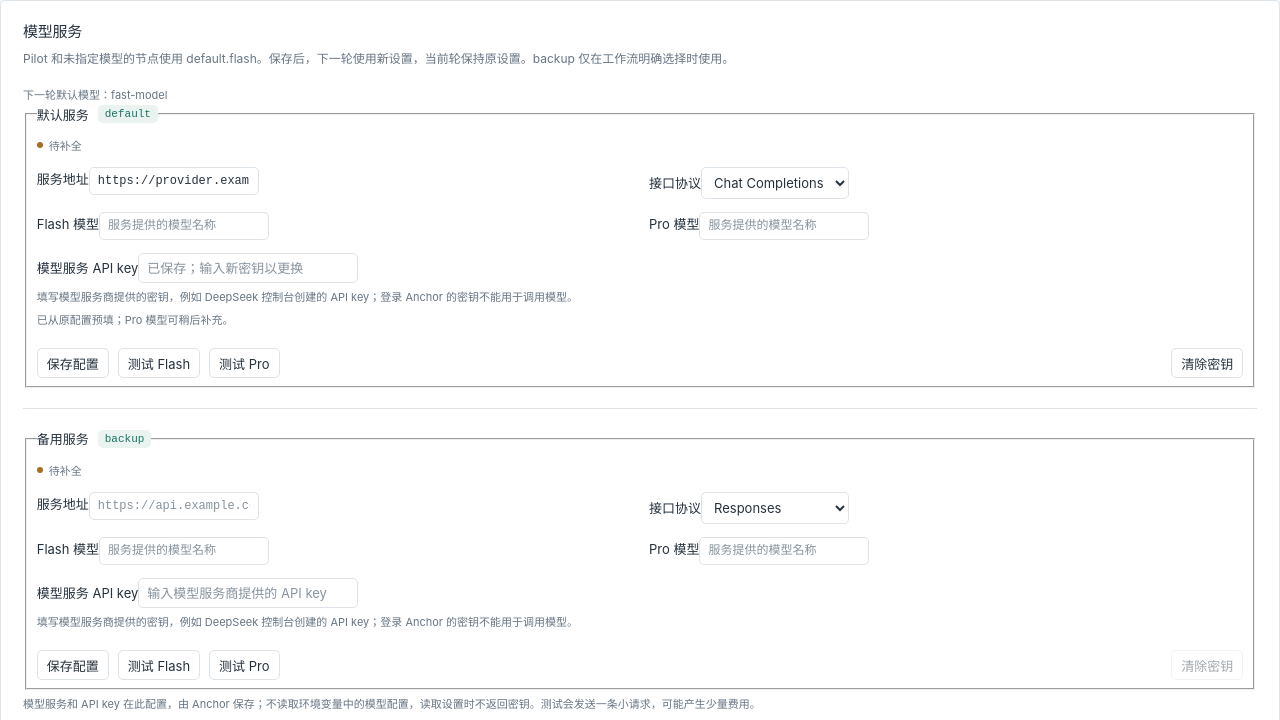
Test case: Model provider settings › uses the execution projection for default readiness while allowing an incomplete Pro model
This screenshot has width=1280, height=720.
Clear the field labelled "Flash 模型" below "默认服务": (184,226) [99,212,269,240]
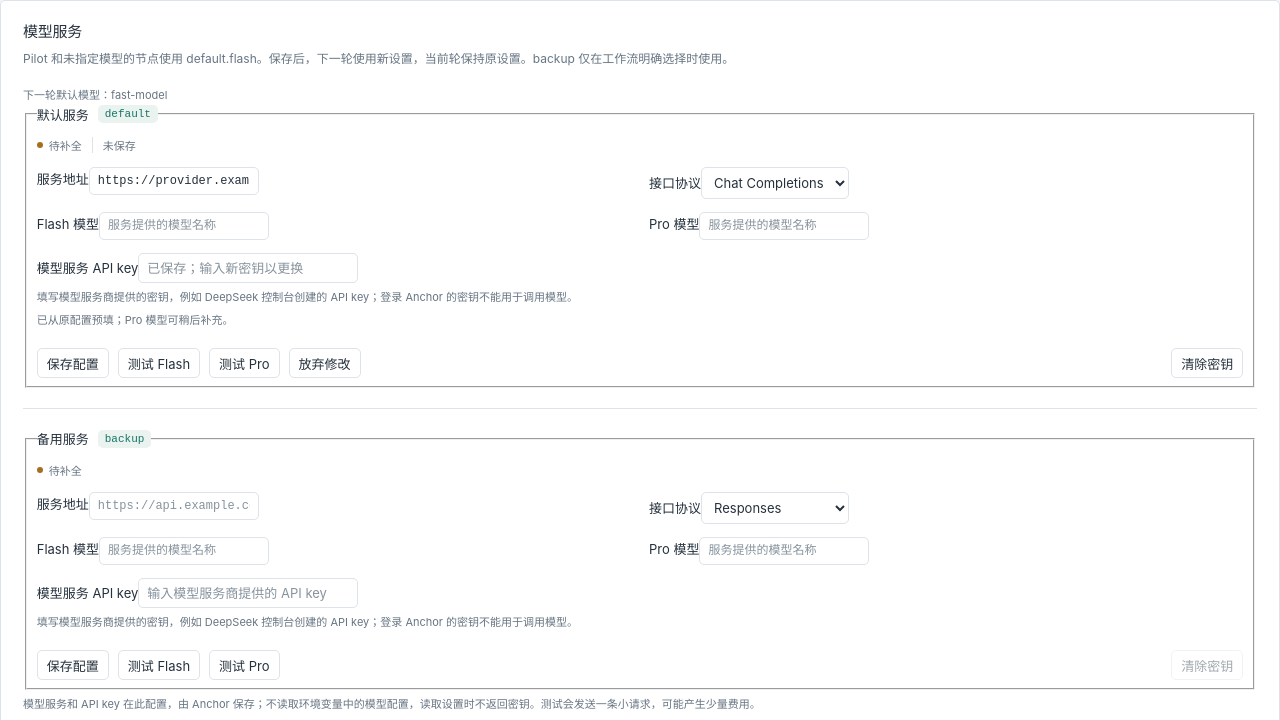
Click the button "保存配置" below "已从原配置预填；Pro 模型可稍后补充。": (73,363) [37,348,109,378]
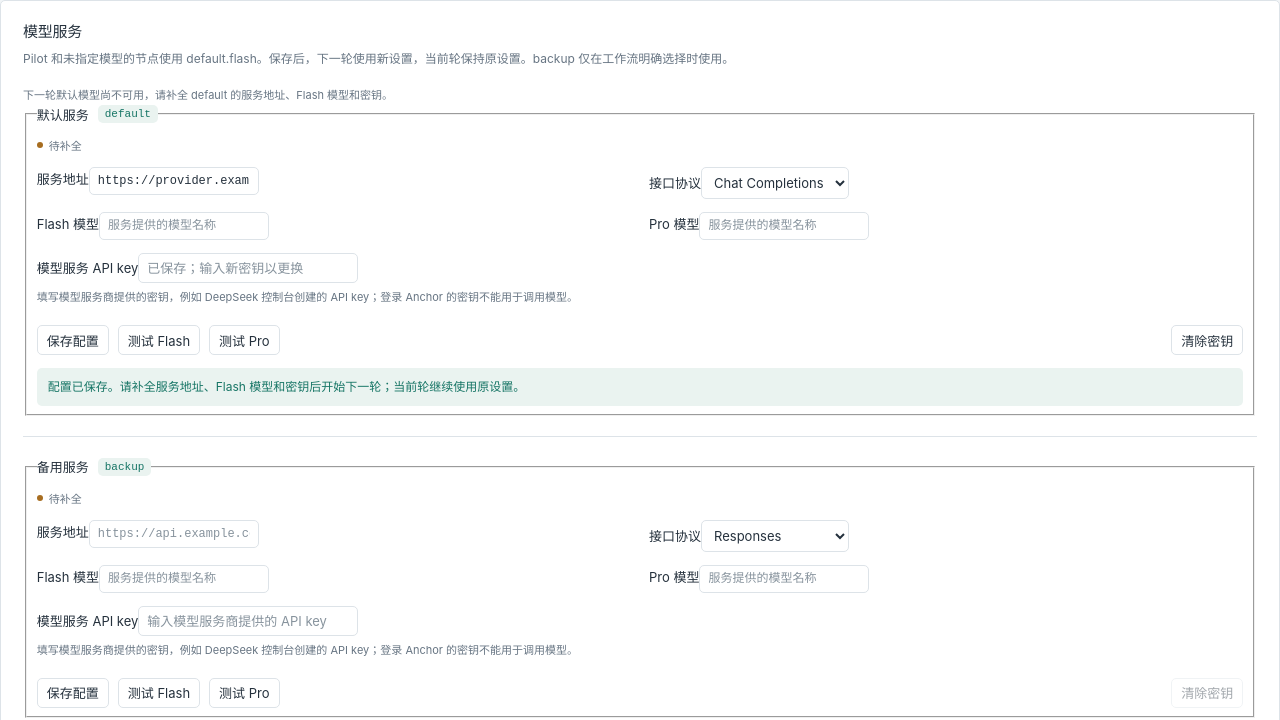
Result: the text "下一轮默认模型尚不可用" is shown at [23,88,393,102]
Result: the text "下一轮默认模型：fast-model" is gone
